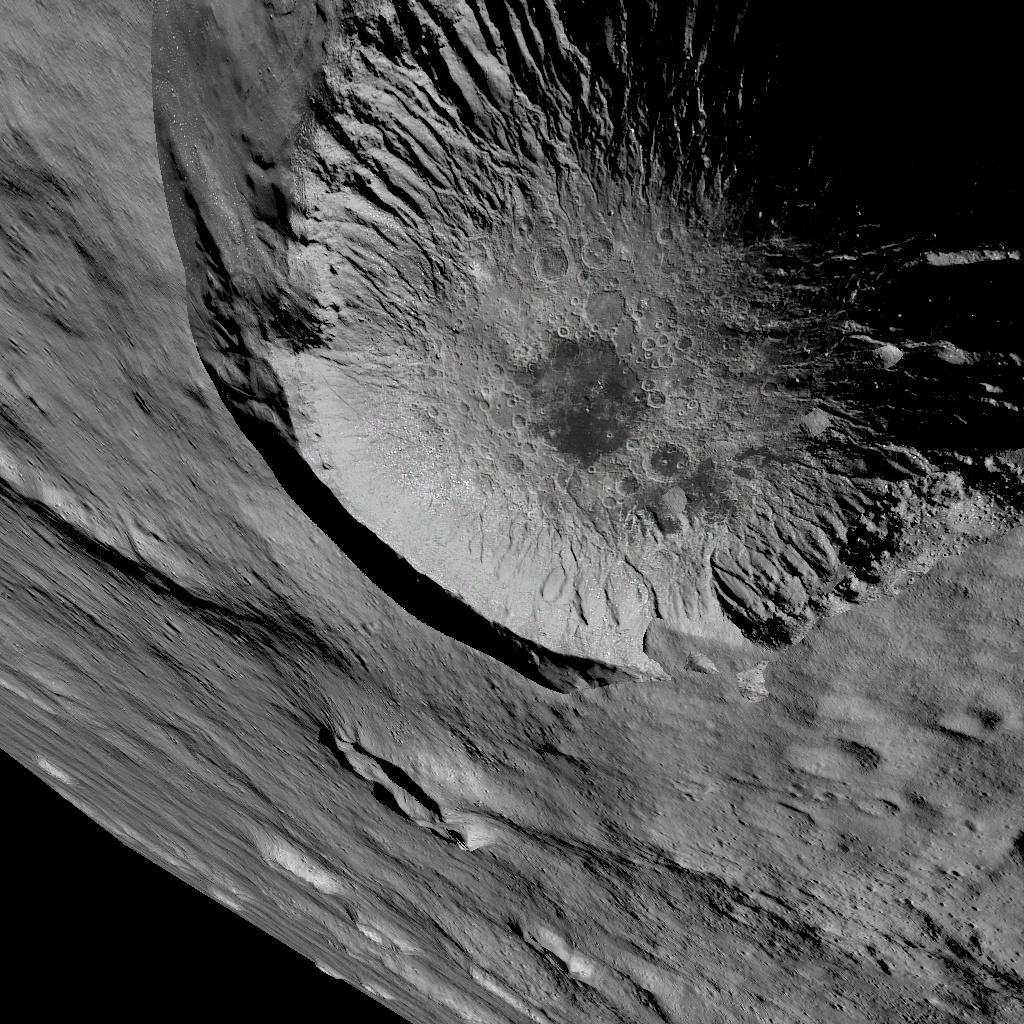Crater: (149, 0, 1024, 697), (307, 718, 482, 857)
Plan surface: (526, 720, 1024, 1024)
